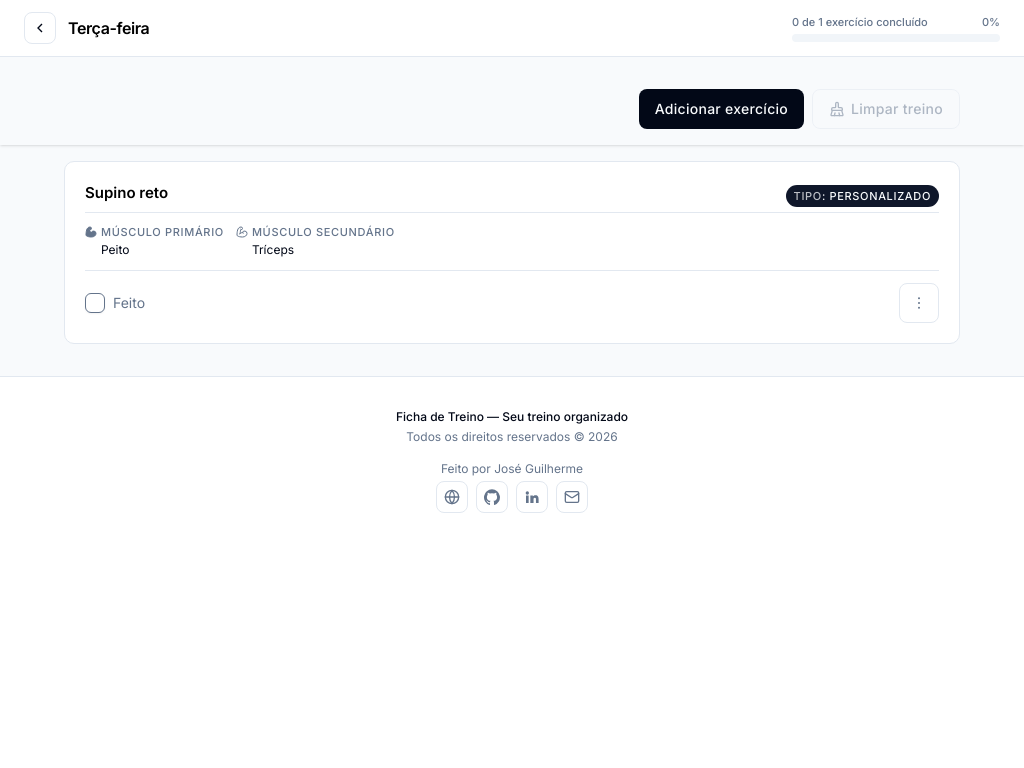
Test: WorkoutDayPage › keeps custom exercise actions in its contextual menu
Expected: the heading "Supino reto" is shown, [85,182,168,204]
What coordinates should you click on to do the following:
click the button named "Ações para Supino reto"
I would click on:
 (919, 303)
Its box is [899,283,939,323].
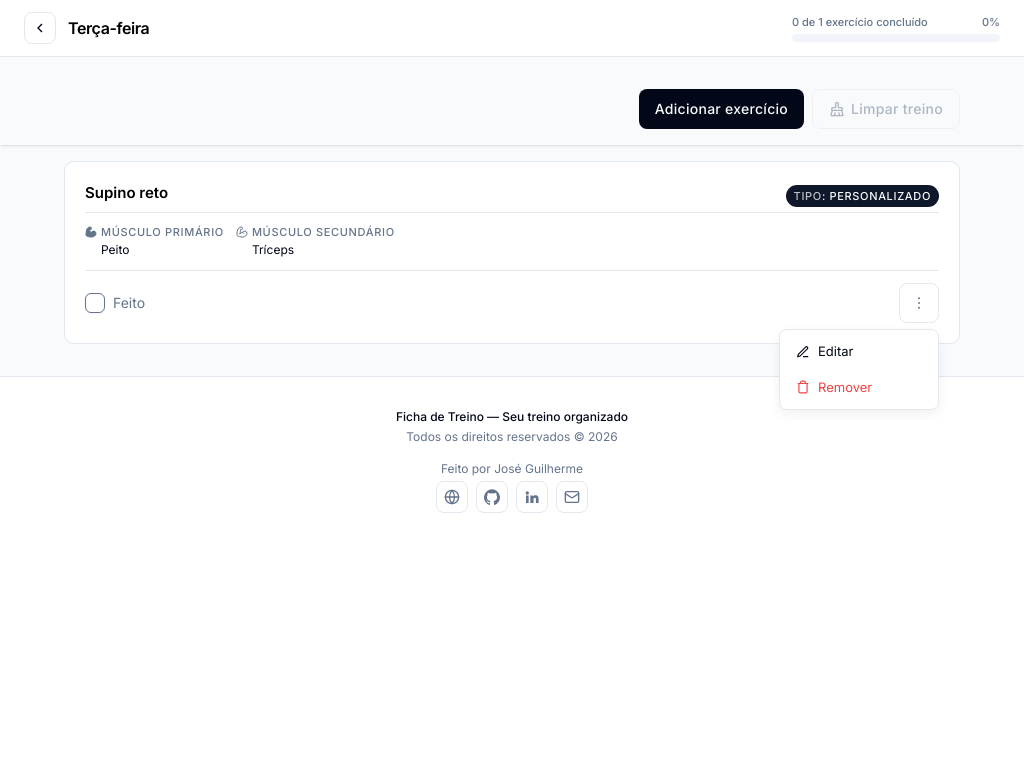
Expected: the menu item "Editar" is shown, [796,343,853,359]
Expected: the menu item "Remover" is shown
What coordinates should you click on to do the following:
click the menu item "Remover"
I would click on:
 (834, 386)
Its box is [796,378,872,394].
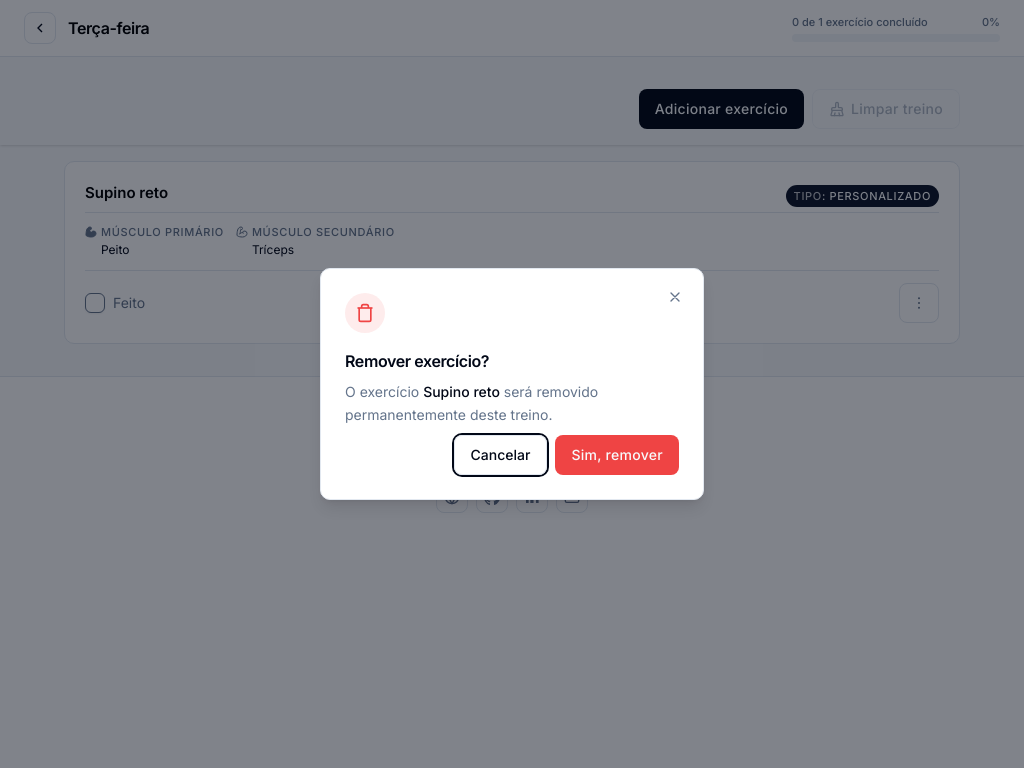
Expected: the dialog shows "será removido permanentemente deste treino.", [345,383,598,423]
